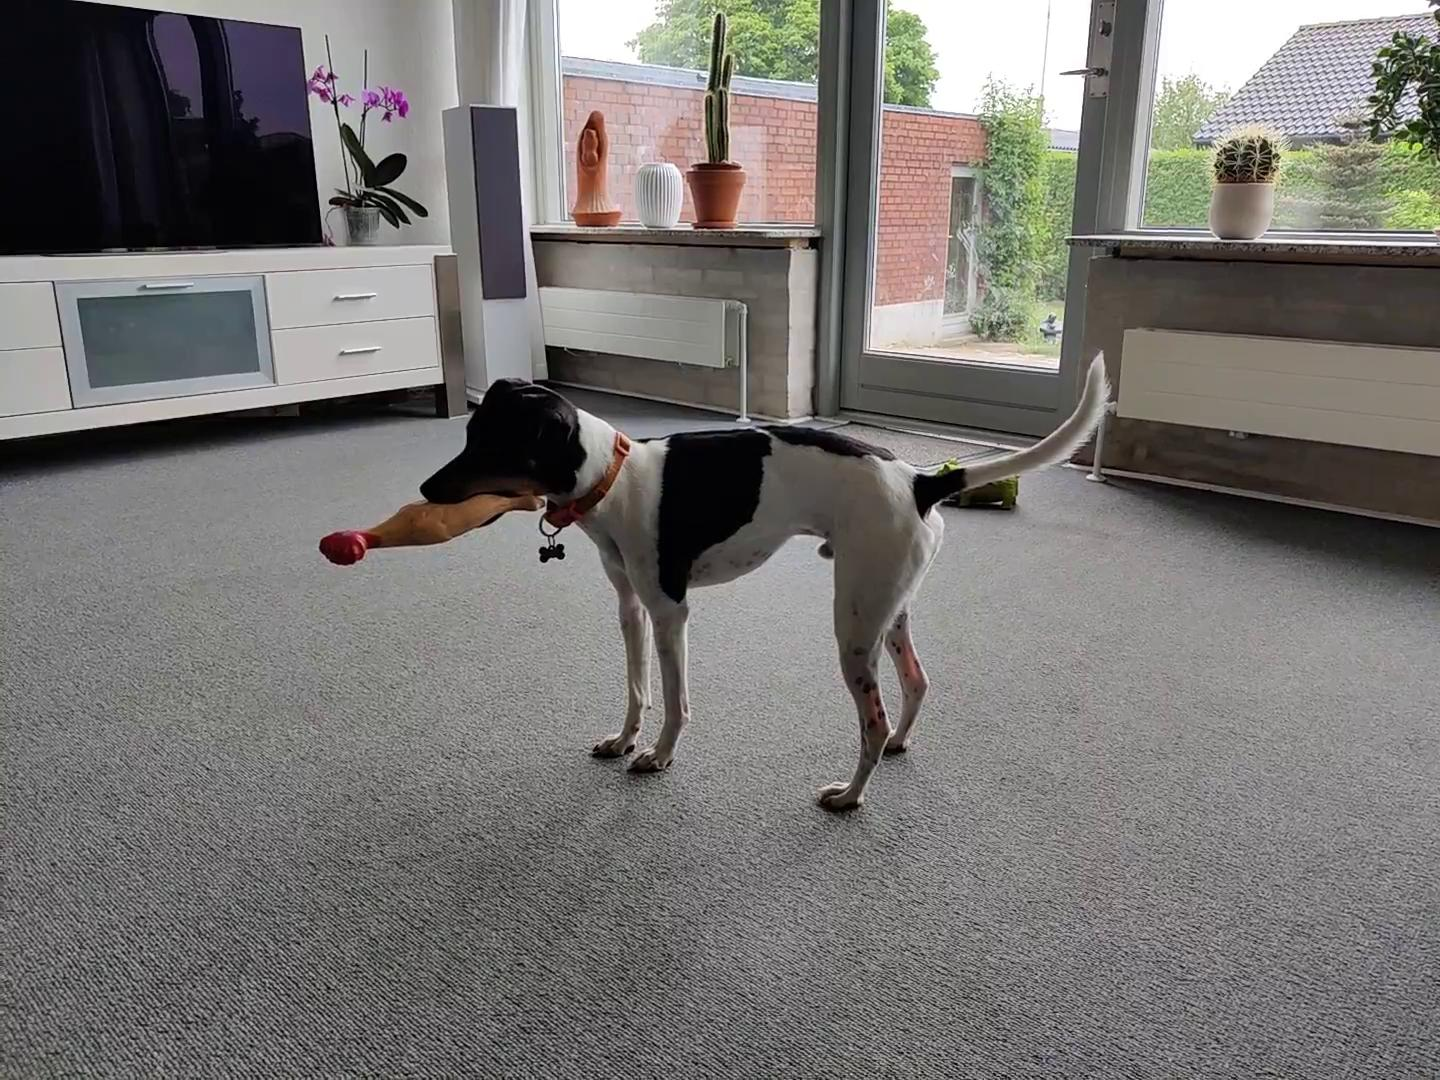Dog: (413, 339, 1113, 813)
